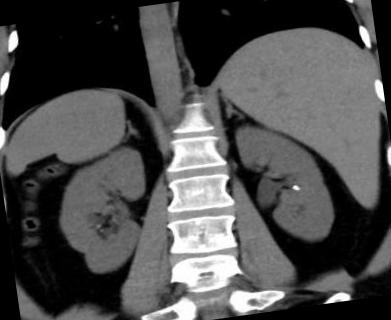Tas_Var: (290, 182, 300, 192)
